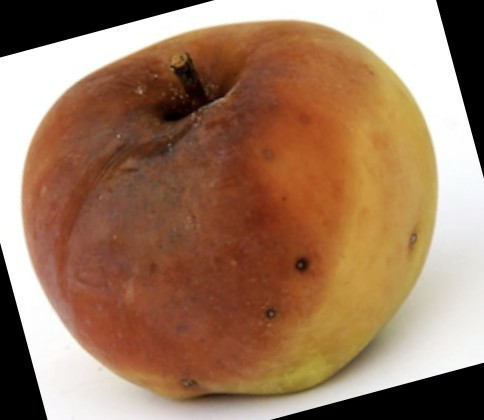rotten_apple: (21, 21, 438, 399)
